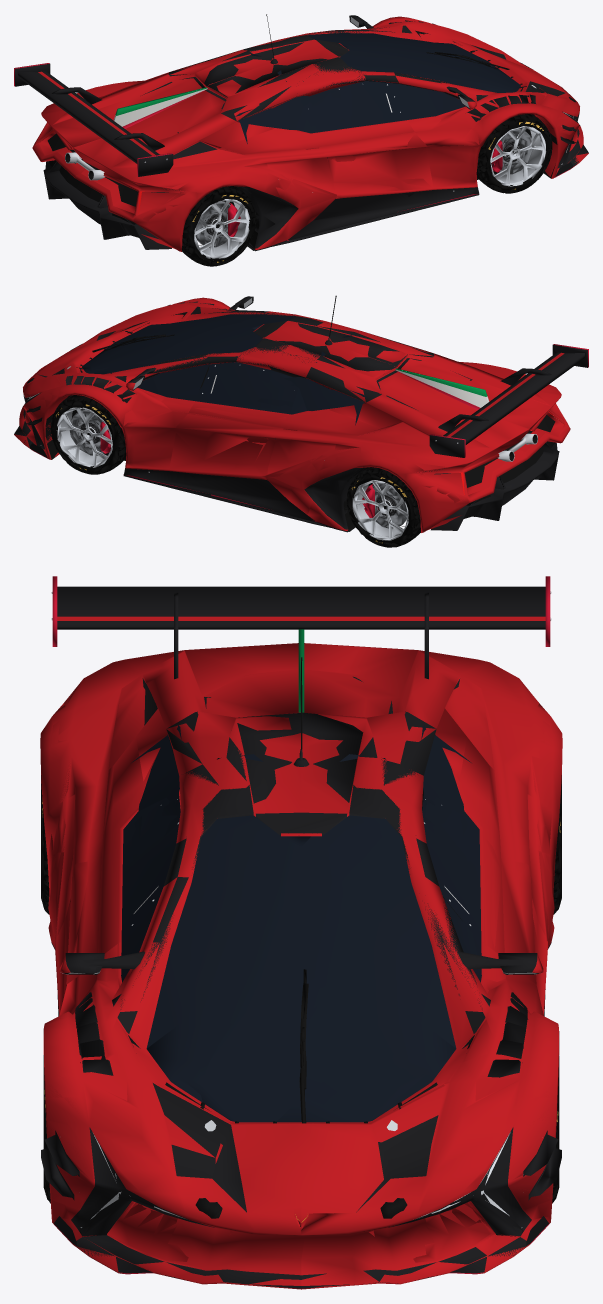
The model's file is LamborginiAuroGT3.game.glb.
3 views of the same model, one above another, from view 1: azimuth 30°, elevation 25°; view 2: azimuth 150°, elevation 25°; view 3: azimuth 270°, elevation 25° (orthographic). The views are drawn at different scales.
Visible parts, largest first — view 1: Body, WheelFrontR, WheelRearR; view 2: Body, WheelFrontL, WheelRearL; view 3: Body.
Part boxes in pixels (box(x1,y1,x2,y2)): Body: box(14, 14, 588, 251); WheelFrontR: box(476, 114, 552, 193); WheelRearR: box(182, 186, 256, 266); Body: box(14, 295, 588, 532); WheelFrontL: box(50, 395, 126, 474); WheelRearL: box(346, 467, 420, 547); Body: box(40, 576, 562, 1289).
Size of the model in its own units: 4.4 by 1.5 by 1.97.
